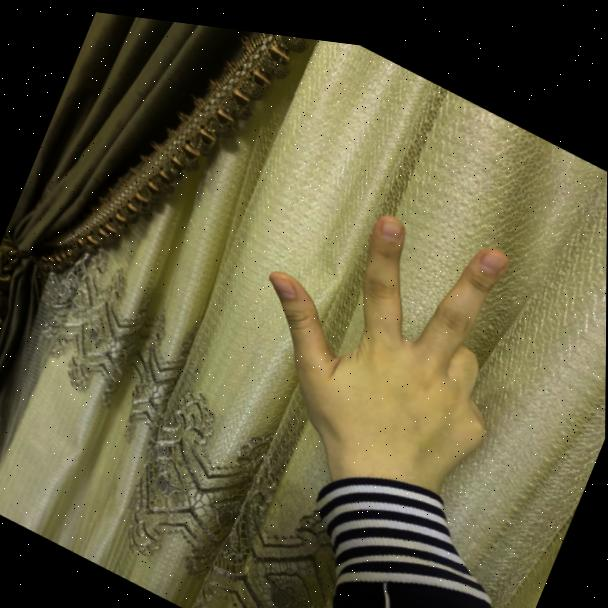three: (214, 135, 579, 539)
